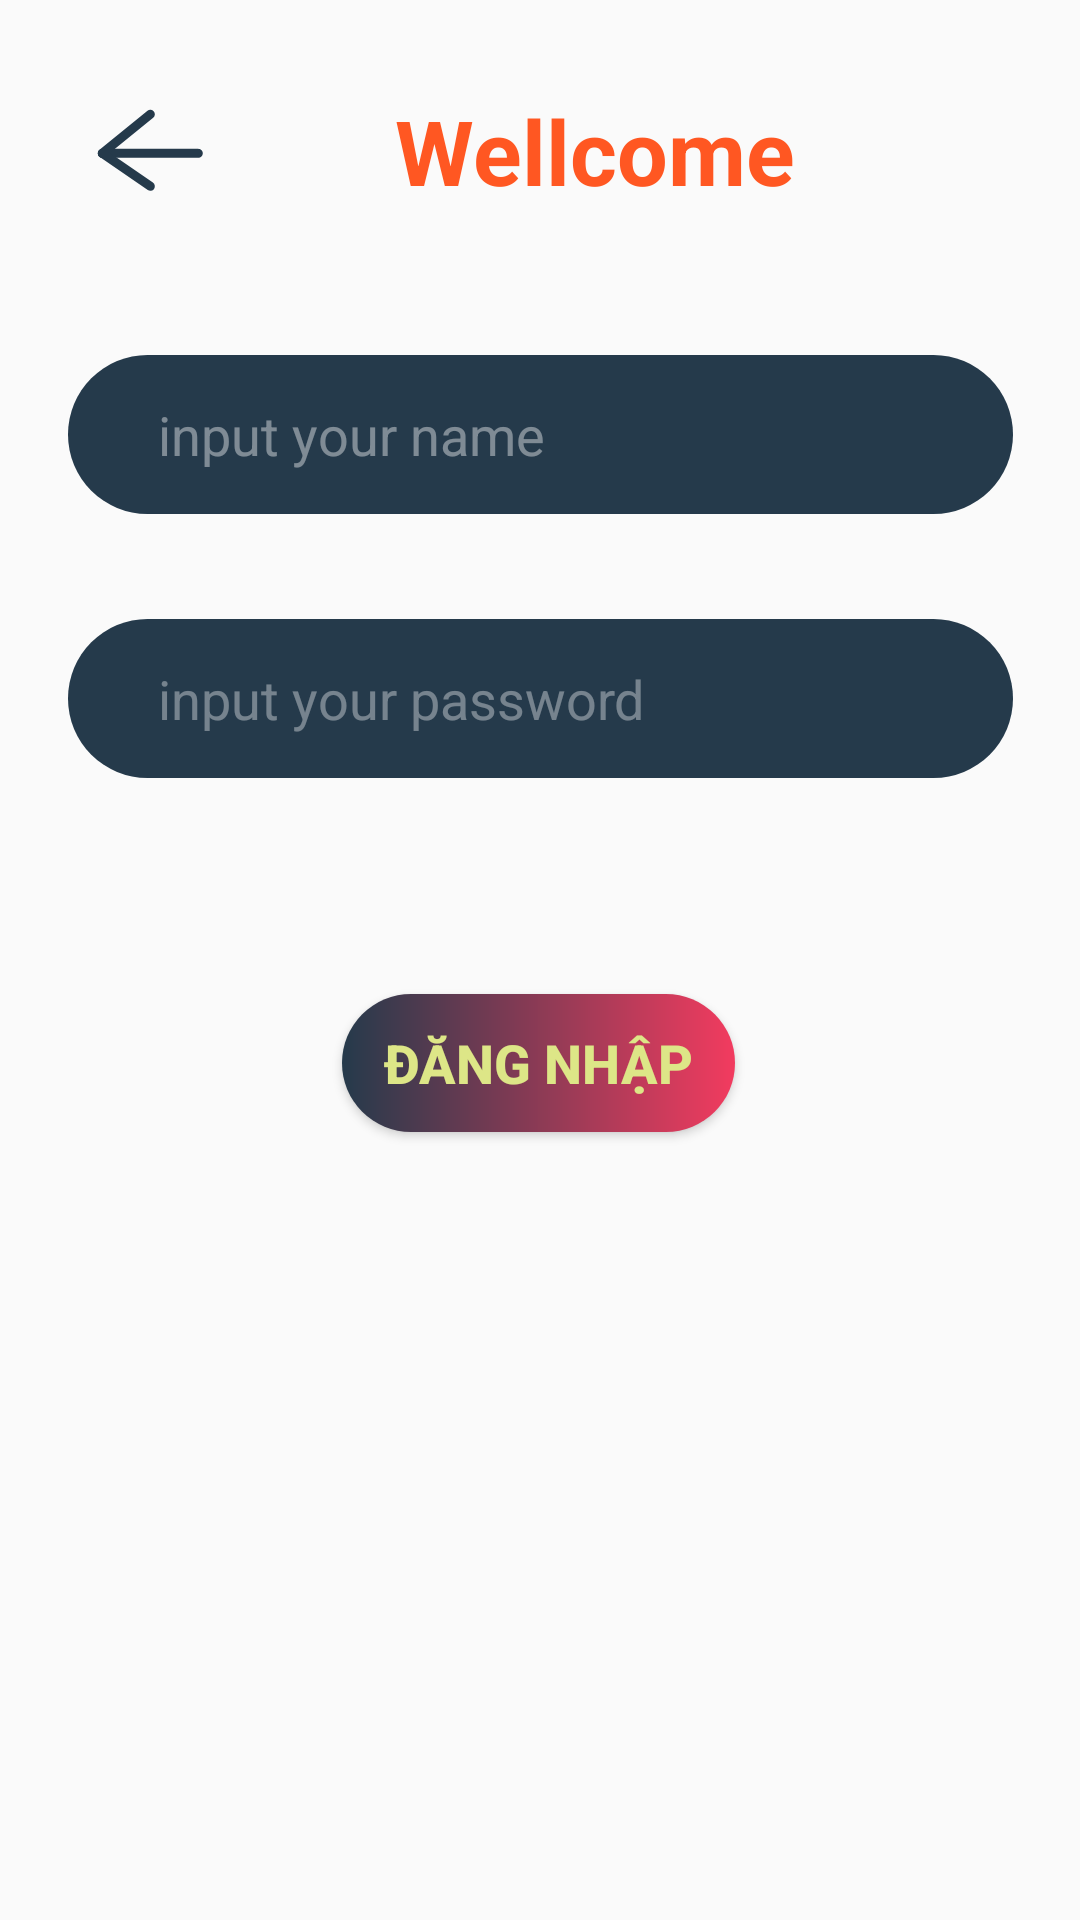

Locate icon controls on the screen. Image size 1080*1920, boxes as (x1, y1, x2, y2).
back: (97, 109, 203, 191)
